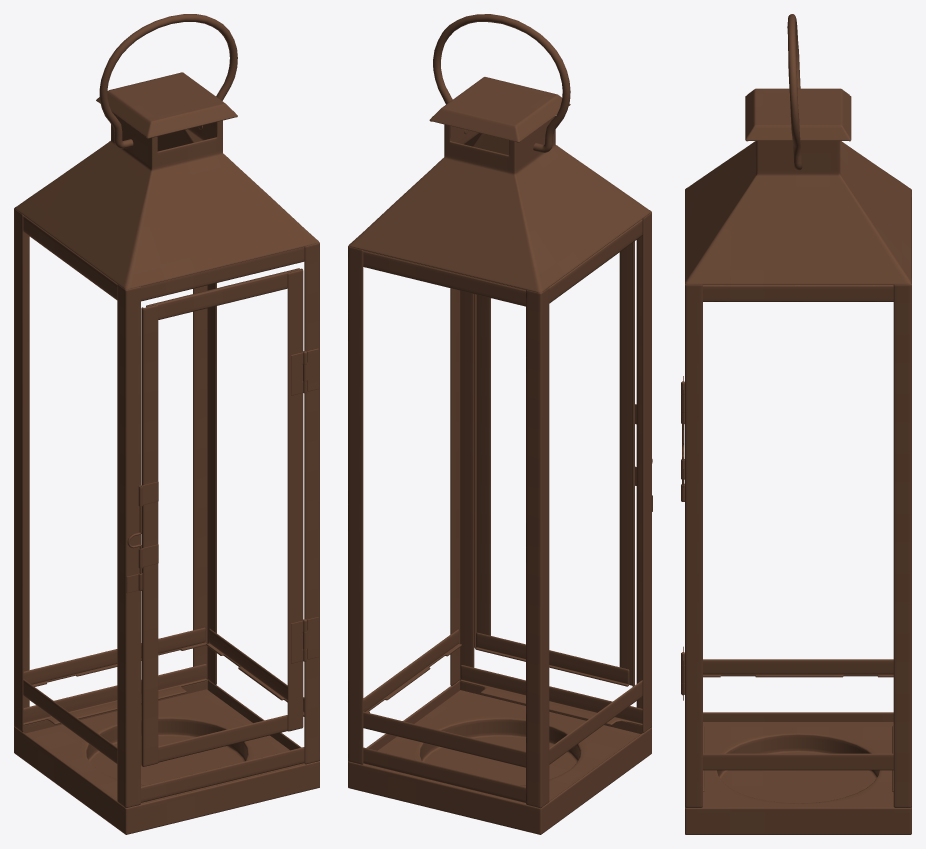
File: hostagille_latarenka_na_swiece_kolumnowe_w_z_60630435.glb
3 views of the same model, side by side, from view 1: azimuth 30°, elevation 25°; view 2: azimuth 150°, elevation 25°; view 3: azimuth 270°, elevation 25° (orthographic).
Parts seen in each view (by area): view 1: hostagille_latarenka_na_swiece_kolumnowe_w_z_60630435; view 2: hostagille_latarenka_na_swiece_kolumnowe_w_z_60630435; view 3: hostagille_latarenka_na_swiece_kolumnowe_w_z_60630435.
Boxes of the visible parts, box(x1,y1,x2,y2) form: hostagille_latarenka_na_swiece_kolumnowe_w_z_60630435: box(14, 14, 319, 834); hostagille_latarenka_na_swiece_kolumnowe_w_z_60630435: box(348, 14, 652, 834); hostagille_latarenka_na_swiece_kolumnowe_w_z_60630435: box(681, 14, 911, 834).
Size of what is drawn, in the model's own units: 0.13 by 0.4828 by 0.1321.
Materials: 1 (1 with a texture image).
